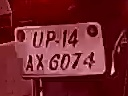0: (60, 52, 71, 72)
1: (60, 29, 69, 48)
4: (84, 51, 97, 71), (69, 29, 81, 49)
6: (48, 53, 60, 71)
7: (72, 50, 82, 70)
A: (24, 52, 35, 73)
P: (45, 28, 57, 51)
U: (32, 31, 45, 50)
X: (34, 53, 47, 71)
